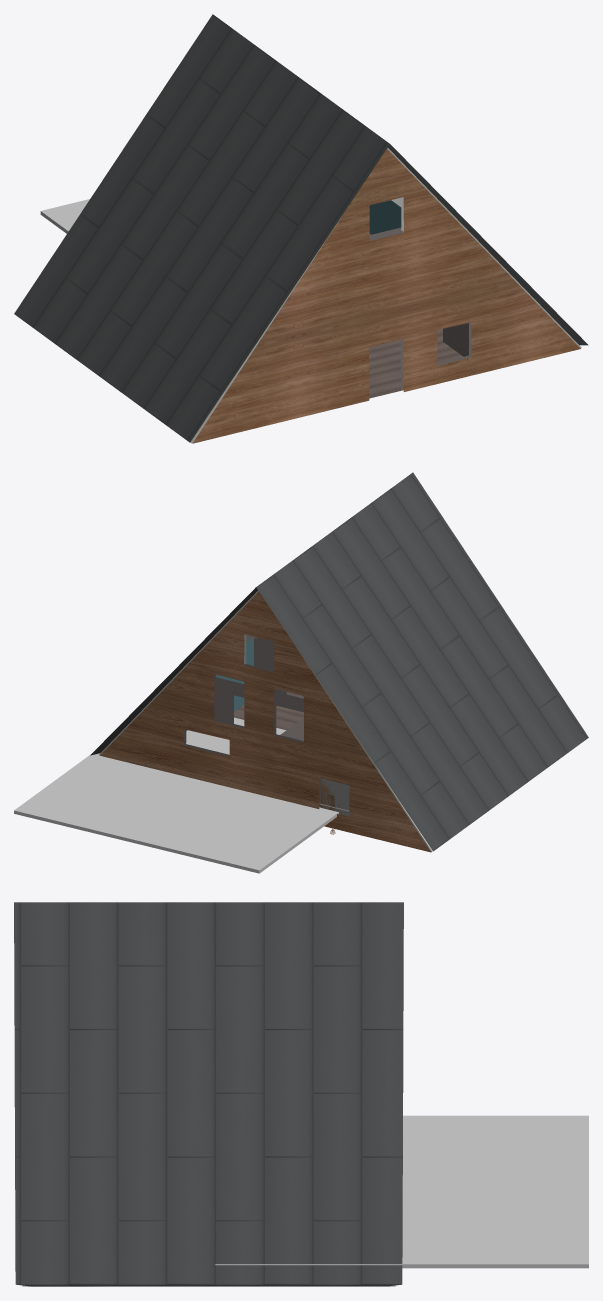
The model's file is 多鹿米家.fbx.
3 views of the same model, one above another, from view 1: azimuth 30°, elevation 25°; view 2: azimuth 150°, elevation 25°; view 3: azimuth 270°, elevation 25° (orthographic). The views are drawn at different scales.
Visible parts, largest first — view 1: 家屋頂, 外部.001, 家一樓地板, 內部2, 家2樓地板, 家內部, 完整牆壁.003; view 2: 家屋頂, 家外部, 家2樓地板, 家內部, 內部2, 冰箱, 大內部, 家一樓地板; view 3: 家屋頂, 家2樓地板.
Boxes of the visible parts, x1,y1,x2,y2 form: 家屋頂: (14,14,588,442); 外部.001: (192,149,580,443); 家一樓地板: (369,329,462,398); 內部2: (369,200,401,237); 家2樓地板: (40,199,370,234); 家內部: (369,230,468,356); 完整牆壁.003: (387,148,581,348); 家屋頂: (90,472,588,851); 家外部: (100,591,430,852); 家2樓地板: (14,717,338,873); 家內部: (216,638,303,723); 內部2: (186,679,303,735); 冰箱: (321,778,349,816); 大內部: (184,664,320,807); 家一樓地板: (234,695,303,730); 家屋頂: (14,902,403,1286); 家2樓地板: (215,1115,588,1268).
Bounding box in the file's own units: 2359 × 1512 × 2678.
